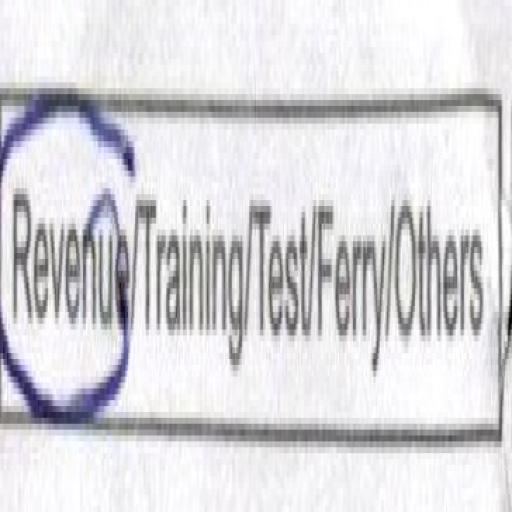check: (0, 0, 130, 512)
